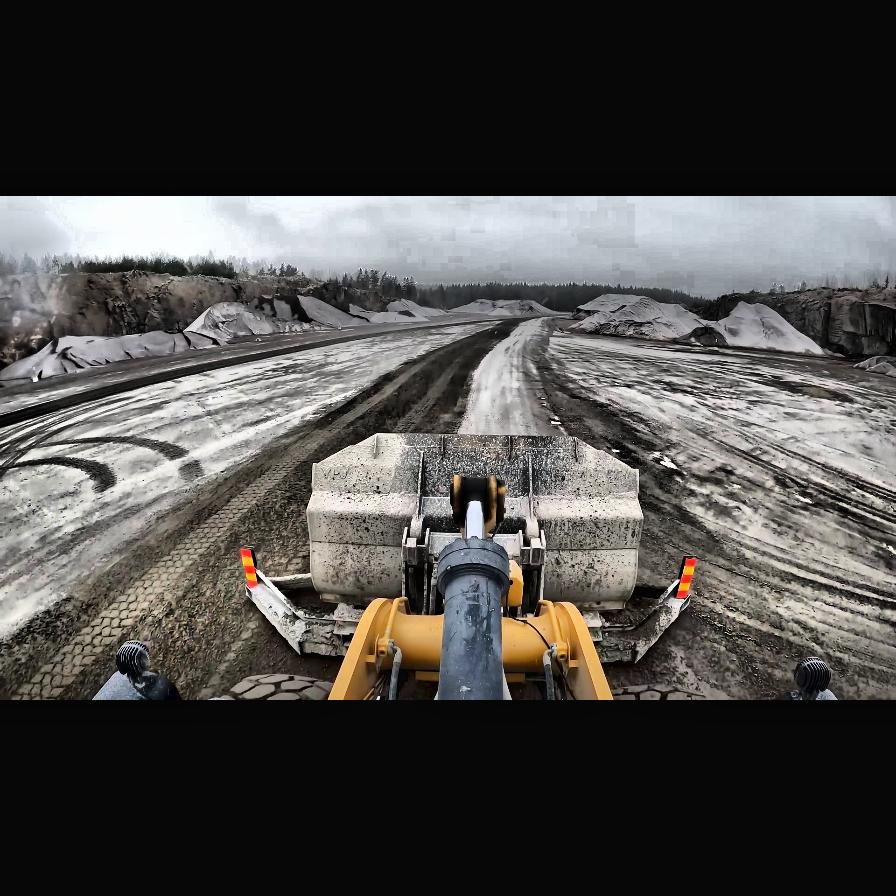anchor: (452, 474, 505, 536)
pile of gravel: (565, 298, 853, 356), (4, 328, 222, 380), (186, 298, 350, 338), (452, 298, 570, 318), (394, 300, 448, 318), (369, 311, 425, 323), (387, 302, 411, 312)
